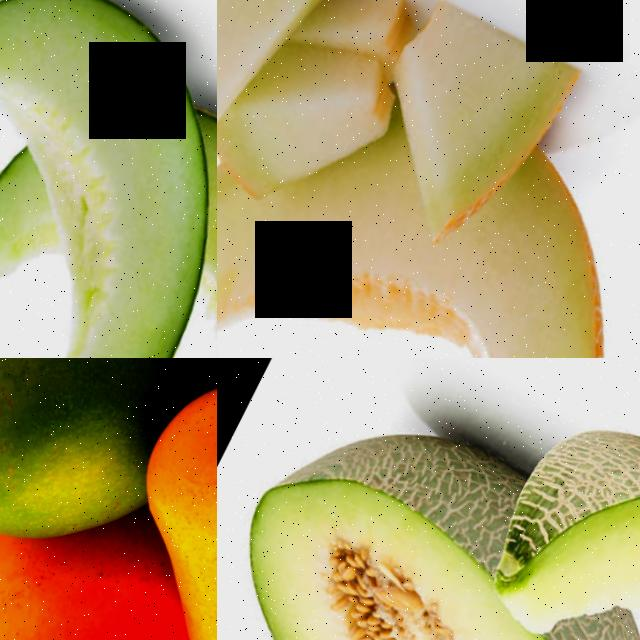mango: (0, 358, 200, 578), (109, 358, 217, 640), (0, 504, 188, 640)
melon: (217, 440, 640, 640), (0, 0, 217, 358), (391, 128, 640, 358), (217, 137, 463, 358), (472, 371, 640, 640)
